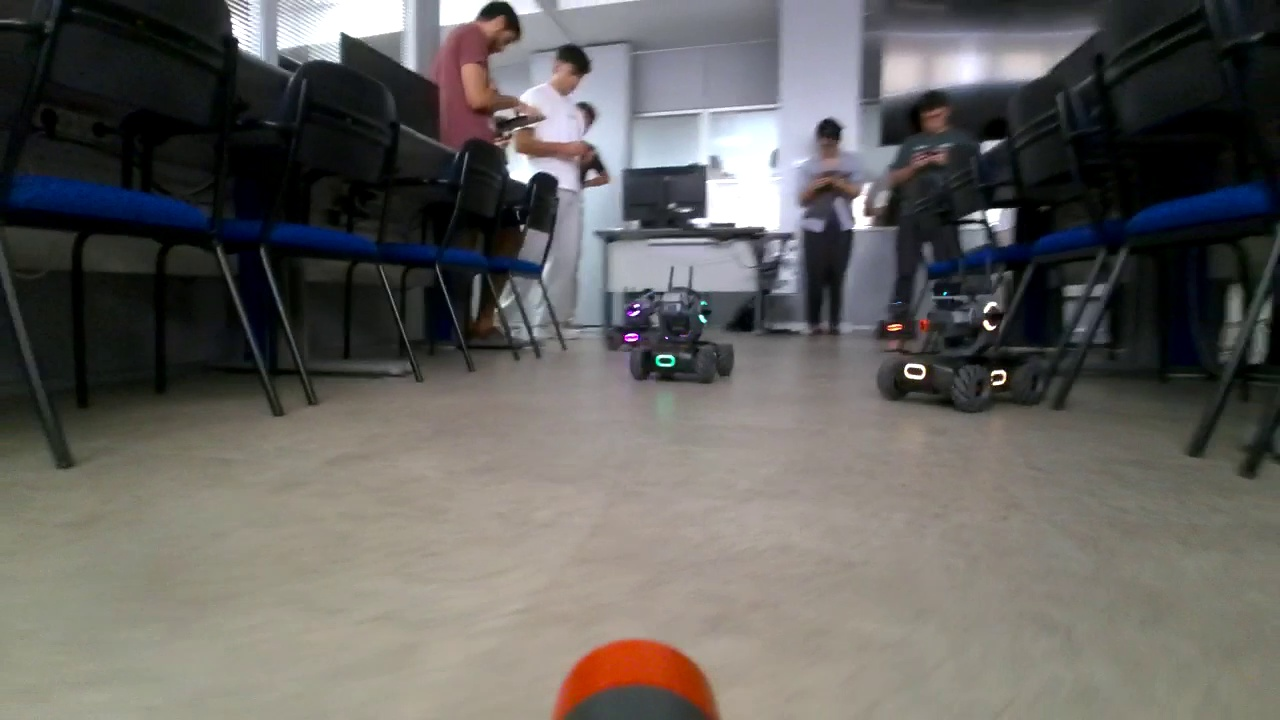robot: (877, 254, 1050, 407), (632, 264, 736, 386), (603, 286, 662, 345), (874, 296, 916, 340)
